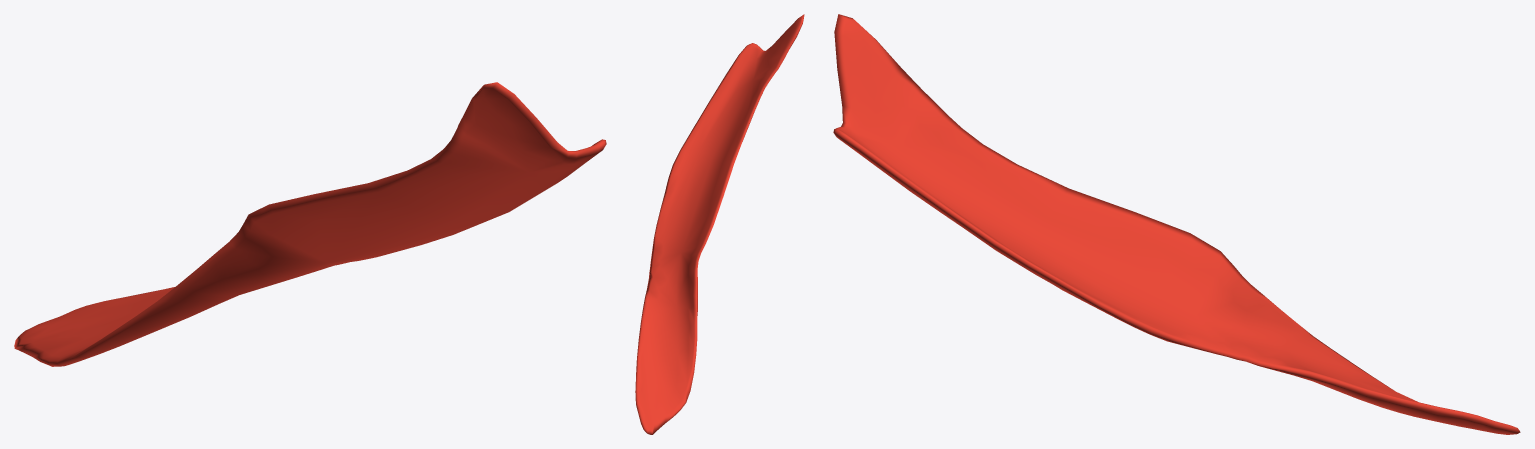
File: Gracilis_muscle-Pubic_insertion.r_Generated_Mesh_From_X3D.807.glb
3 renders of one model, left to right at view 1: azimuth 30°, elevation 25°; view 2: azimuth 150°, elevation 25°; view 3: azimuth 270°, elevation 25°, orthographic. The views are drawn at different scales.
Visible parts, largest first — view 1: Gracilis_muscle-Pubic_insertion.r_Generated_Mesh_From_X3D.80; view 2: Gracilis_muscle-Pubic_insertion.r_Generated_Mesh_From_X3D.80; view 3: Gracilis_muscle-Pubic_insertion.r_Generated_Mesh_From_X3D.80.
Boxes of the visible parts, left/top/right/bottom form: Gracilis_muscle-Pubic_insertion.r_Generated_Mesh_From_X3D.80: left=14, top=82, right=606, bottom=366; Gracilis_muscle-Pubic_insertion.r_Generated_Mesh_From_X3D.80: left=635, top=14, right=804, bottom=434; Gracilis_muscle-Pubic_insertion.r_Generated_Mesh_From_X3D.80: left=833, top=14, right=1520, bottom=434.
Bounding box in the file's own units: 0.0138 × 0.0293 × 0.04.
